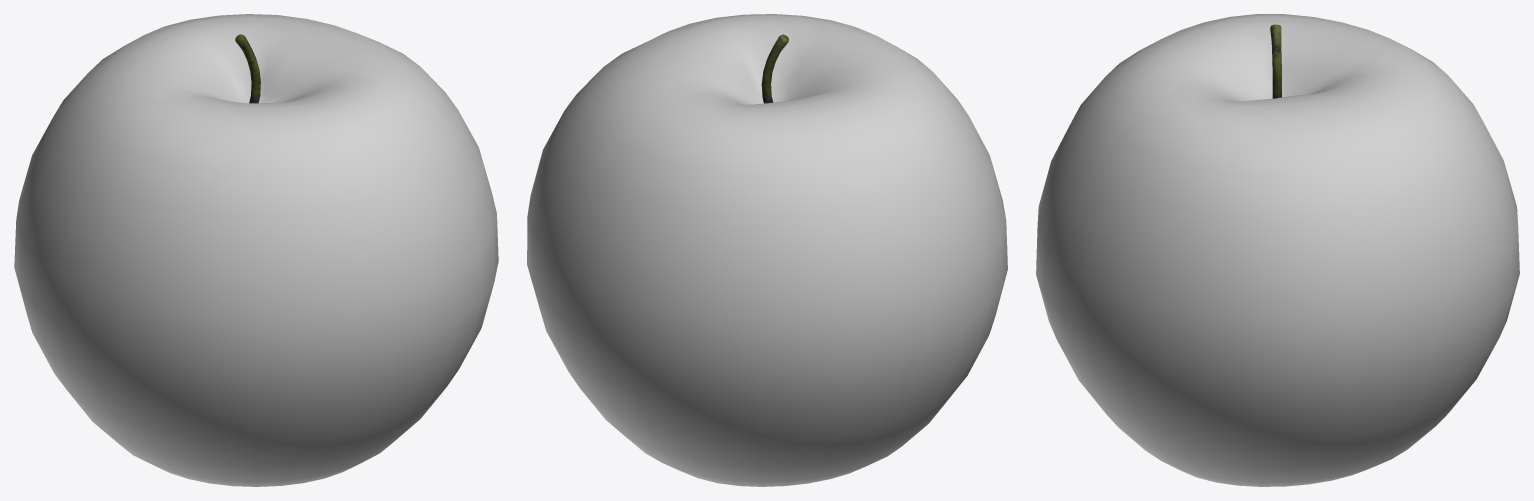
Rendered from Manzana.gltf.
3 views of the same model, side by side, from view 1: azimuth 30°, elevation 25°; view 2: azimuth 150°, elevation 25°; view 3: azimuth 270°, elevation 25° (orthographic).
Visible parts, largest first — view 1: F04 Green apple 3 (×2); view 2: F04 Green apple 3 (×2); view 3: F04 Green apple 3 (×2).
Boxes of the visible parts, x1,y1,x2,y2 form: F04 Green apple 3 (×2): (14,14,498,486); F04 Green apple 3 (×2): (527,14,1007,486); F04 Green apple 3 (×2): (1036,14,1519,486).
Bounding box in the file's own units: 6.93 × 6.53 × 6.88.
